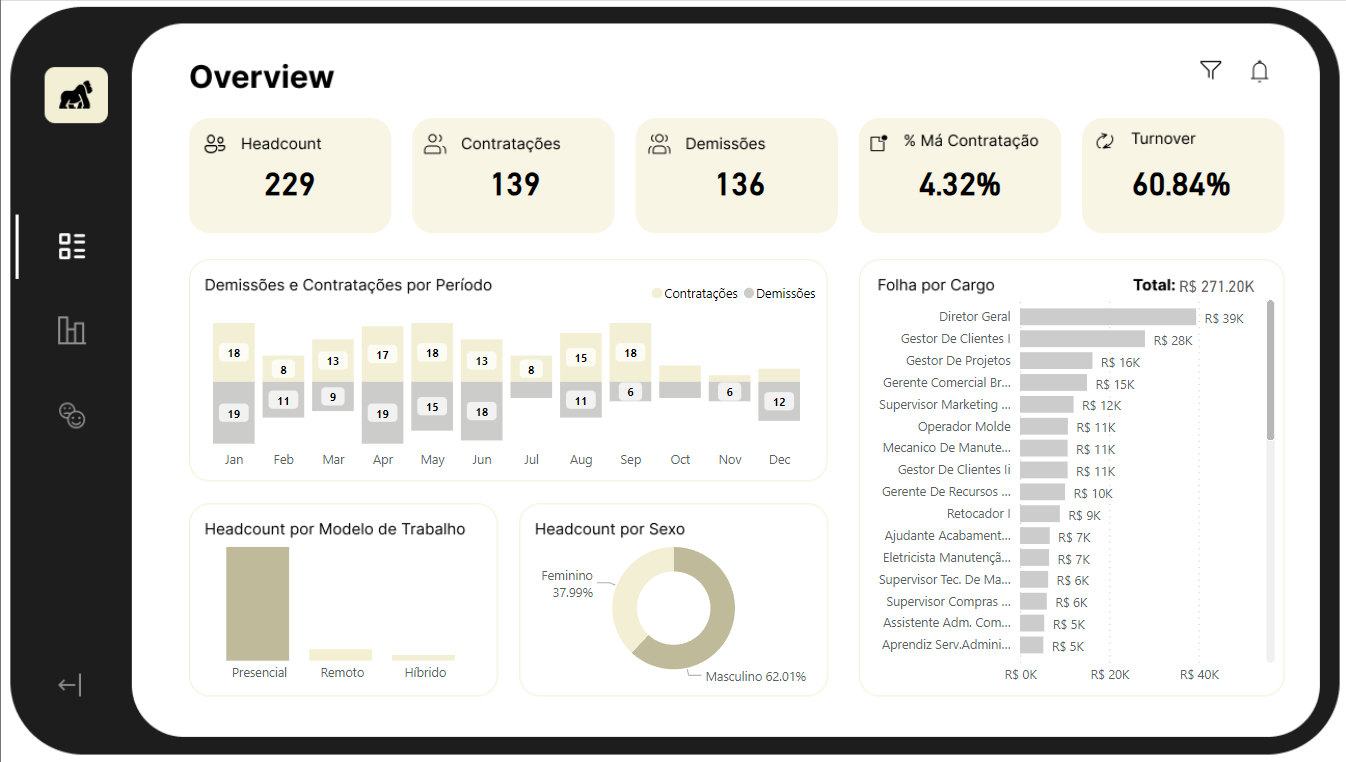

Layout of this report page (visuals, bound fields, positions):
{"tool":"powerbi","page":{"name":"Dashboard","canvas":[1280,720],"ordinal":0},"visuals":[{"type":"group","id":"g1","title":"Menu","box":[0,0,1280,720],"z":0},{"type":"image","box":[0,0,1280,720],"z":0,"group":"g1"},{"type":"card","title":"Contratações","fields":{"Values":["Measure.Total Hiring"]},"box":[393.7,145.3,187.4,51.6],"z":1000,"group":"g1"},{"type":"card","title":"Headcount","fields":{"Values":["Measure.Headcount"]},"box":[176.8,145.3,193.7,51.6],"z":2000,"group":"g1"},{"type":"actionButton","title":"NavBookmarkGithub","box":[38.9,628.4,49.5,38.9],"z":2000},{"type":"card","title":"Demissões","fields":{"Values":["Measure.layoffs"]},"box":[606.3,145.3,190.5,51.6],"z":3000,"group":"g1"},{"type":"card","title":"% Má Contratação","fields":{"Values":["Measure.% Bad Hire"]},"box":[815.8,145.3,188.4,51.6],"z":4000,"group":"g1"},{"type":"card","title":"Turnover","fields":{"Values":["Measure.Turnover"]},"box":[1027.4,145.3,186.3,51.6],"z":5000,"group":"g1"},{"type":"lineStackedColumnComboChart","title":"Demissões e Contratações por Mês","fields":{"Category":["time.CurrentMonth"],"Y":["Measure.Total Hiring","Measure.Layoffs Chart"]},"box":[176.8,256.8,606.3,196.8],"z":6000,"group":"g1"},{"type":"clusteredBarChart","title":"Folha de Pagamento por Cargo","fields":{"Y":["Measure.Payroll Value"],"Category":["role.name"]},"box":[815.8,269.6,398,388.1],"z":7000,"group":"g1"},{"type":"card","title":"Folha Pagamento","fields":{"Values":["Measure.Payroll Value"]},"box":[1111.1,256.8,85.9,24.7],"z":8000,"group":"g1"},{"type":"clusteredColumnChart","title":"Headcount por Modo de Trabalho","fields":{"Category":["employee.work"],"Y":["Measure.Headcount"]},"box":[176.8,503.7,294.3,154.1],"z":9000,"group":"g1"},{"type":"donutChart","title":"Headcount por Sexo","fields":{"Y":["Measure.Headcount"],"Category":["employee.gender"]},"box":[494.8,494.8,287.4,163],"z":10000,"group":"g1"},{"type":"actionButton","title":"NavBookmarkW/Filter","box":[1128,50.2,39.5,29.6],"z":10500,"group":"g1"}]}

Visuals, with their boxes on the page's 1280x720 design canvas (x1, y1, x2, y2). These are canvas units, not pixel positions in the 1346x762 screenshot, which may show the page scaled, cropped or inside an application window:
"Menu" group: Rect(0, 0, 1280, 720)
image: Rect(0, 0, 1280, 720)
"Contratações" card: Rect(394, 145, 581, 197)
"Headcount" card: Rect(177, 145, 370, 197)
"NavBookmarkGithub" actionButton: Rect(39, 628, 88, 667)
"Demissões" card: Rect(606, 145, 797, 197)
"% Má Contratação" card: Rect(816, 145, 1004, 197)
"Turnover" card: Rect(1027, 145, 1214, 197)
"Demissões e Contratações por Mês" lineStackedColumnComboChart: Rect(177, 257, 783, 454)
"Folha de Pagamento por Cargo" clusteredBarChart: Rect(816, 270, 1214, 658)
"Folha Pagamento" card: Rect(1111, 257, 1197, 282)
"Headcount por Modo de Trabalho" clusteredColumnChart: Rect(177, 504, 471, 658)
"Headcount por Sexo" donutChart: Rect(495, 495, 782, 658)
"NavBookmarkW/Filter" actionButton: Rect(1128, 50, 1168, 80)
